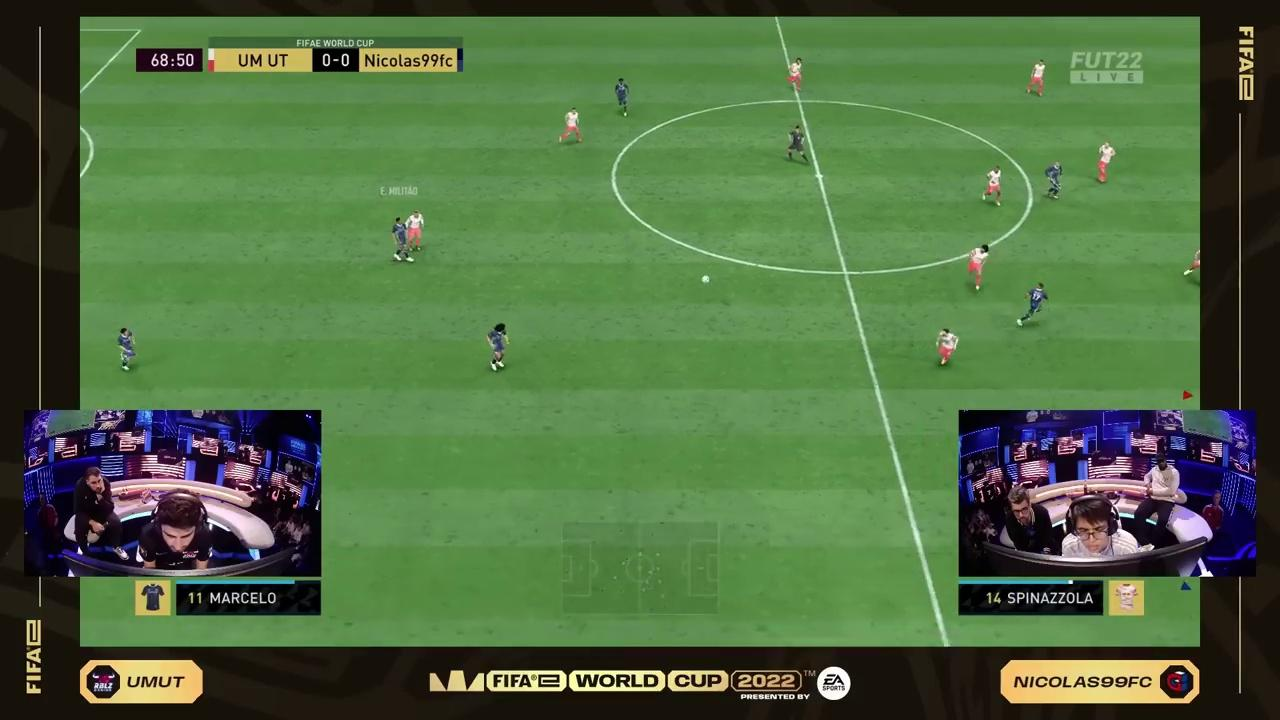scoreboard: (210, 48, 469, 74)
timestamp: (135, 46, 205, 72)
